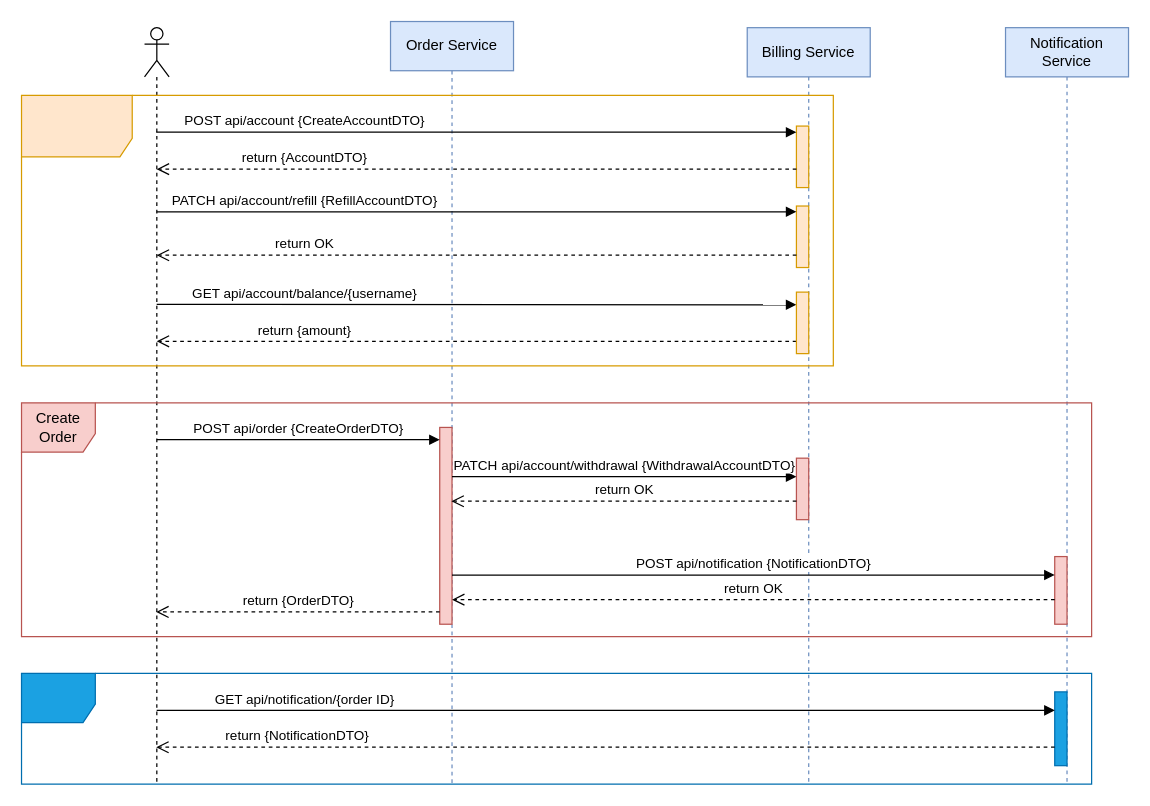
Some shapes in this 1150 by 806 pixel diagram are drawn without their labels. Here are the shapes that lost their labels. From the top down, the centre of each, then its label:
At pixel 426 230: "Create & Refill account".
At pixel 556 728: "Check notice".
